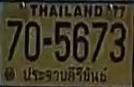0: (24, 20, 39, 60)
3: (109, 22, 125, 62)
5: (54, 21, 70, 61)
6: (72, 21, 88, 62)
7: (91, 21, 107, 62), (7, 20, 22, 60)
PKN: (21, 64, 111, 86)
